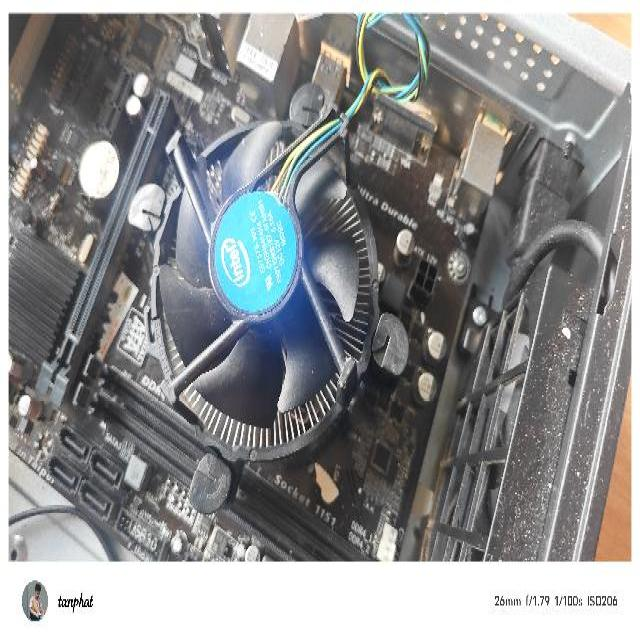CPU_Fan: (145, 105, 411, 518)
Mainboard: (8, 11, 448, 562)
